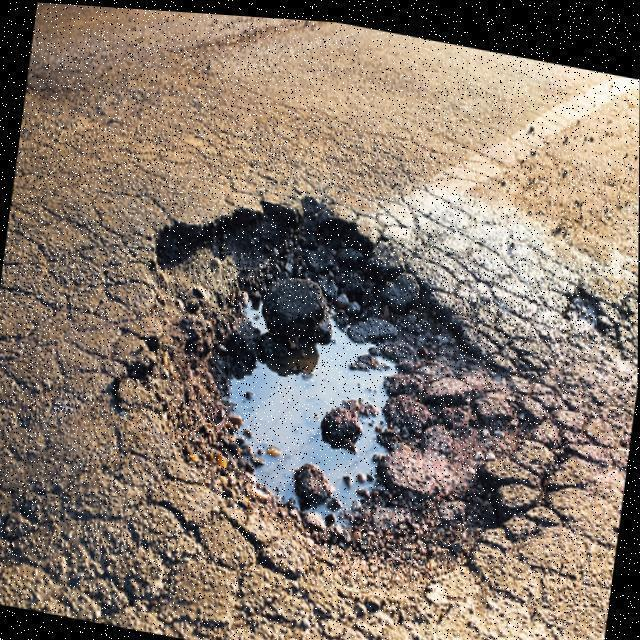Pothole: (107, 195, 543, 627), (560, 281, 623, 350)
